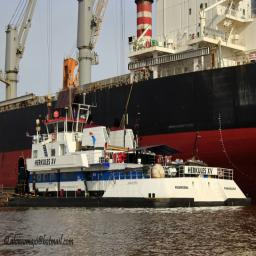tugboat: (2, 101, 253, 214)
